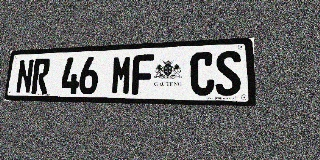4: (60, 57, 81, 94)
6: (78, 56, 99, 94)
C: (190, 52, 214, 96)
F: (131, 54, 154, 95)
M: (111, 55, 133, 95)
N: (15, 59, 34, 94)
R: (31, 58, 51, 94)
S: (215, 50, 241, 96)
